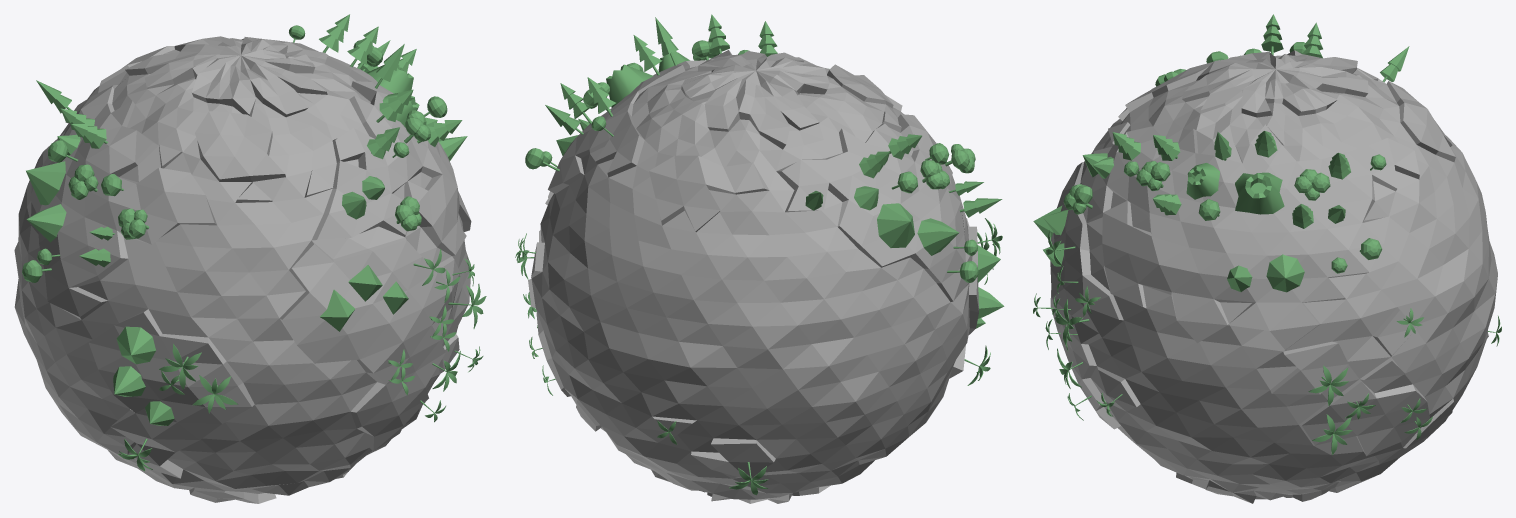
The model's file is earth.fbx.
3 views of the same model, side by side, from view 1: azimuth 30°, elevation 25°; view 2: azimuth 150°, elevation 25°; view 3: azimuth 270°, elevation 25° (orthographic). The views are drawn at different scales.
Parts seen in each view (by area): view 1: polySurface297; view 2: polySurface297; view 3: polySurface297.
Part boxes in pixels (x1,y1,x2,y2): polySurface297: (14, 14, 486, 503); polySurface297: (515, 14, 1004, 503); polySurface297: (1033, 14, 1501, 503).
Bounding box in the file's own units: 788 × 729 × 746.
